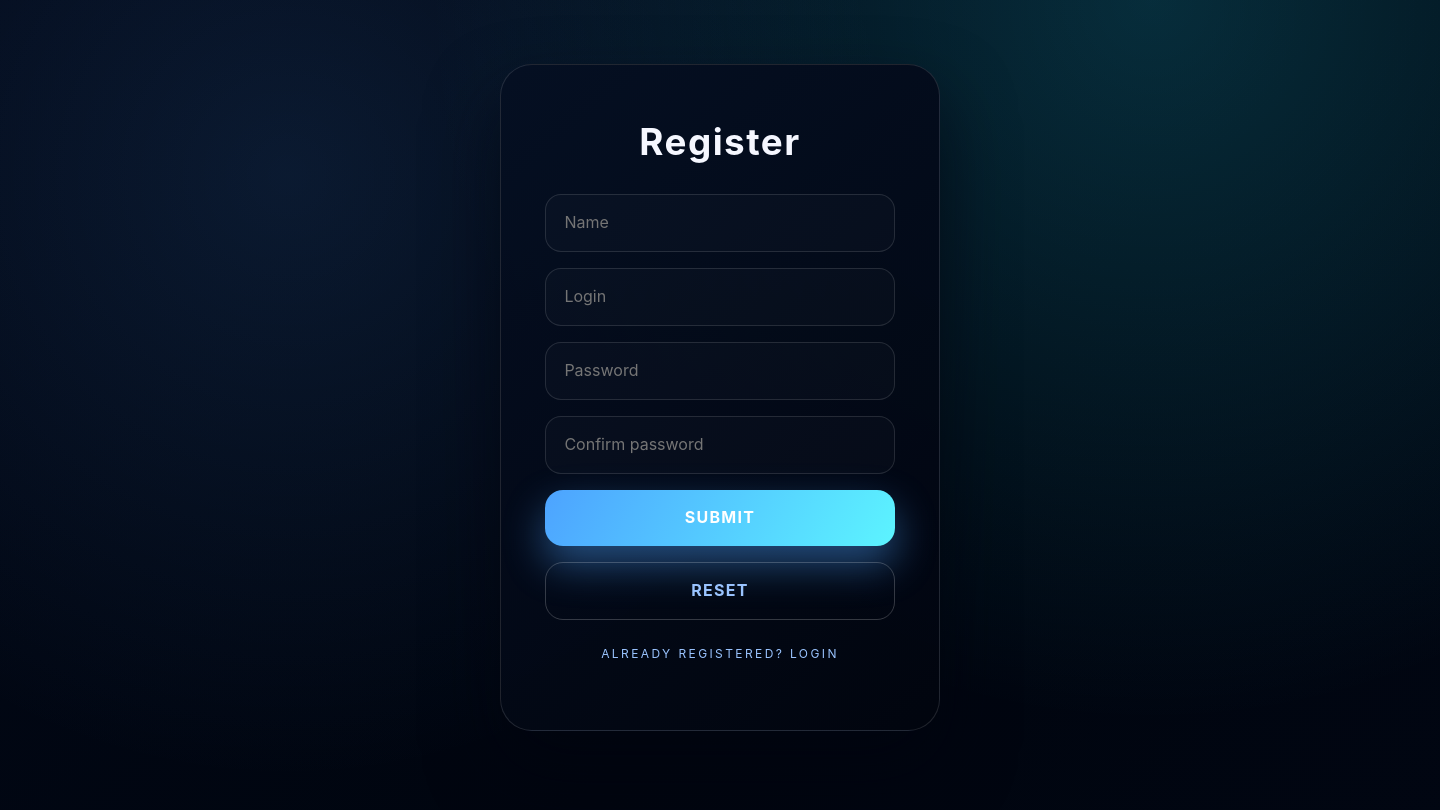
Register Component › shows error on registration failure
Type "John Doe" into the field with placeholder "Name" at coordinates (720, 223), box [545, 194, 895, 252]
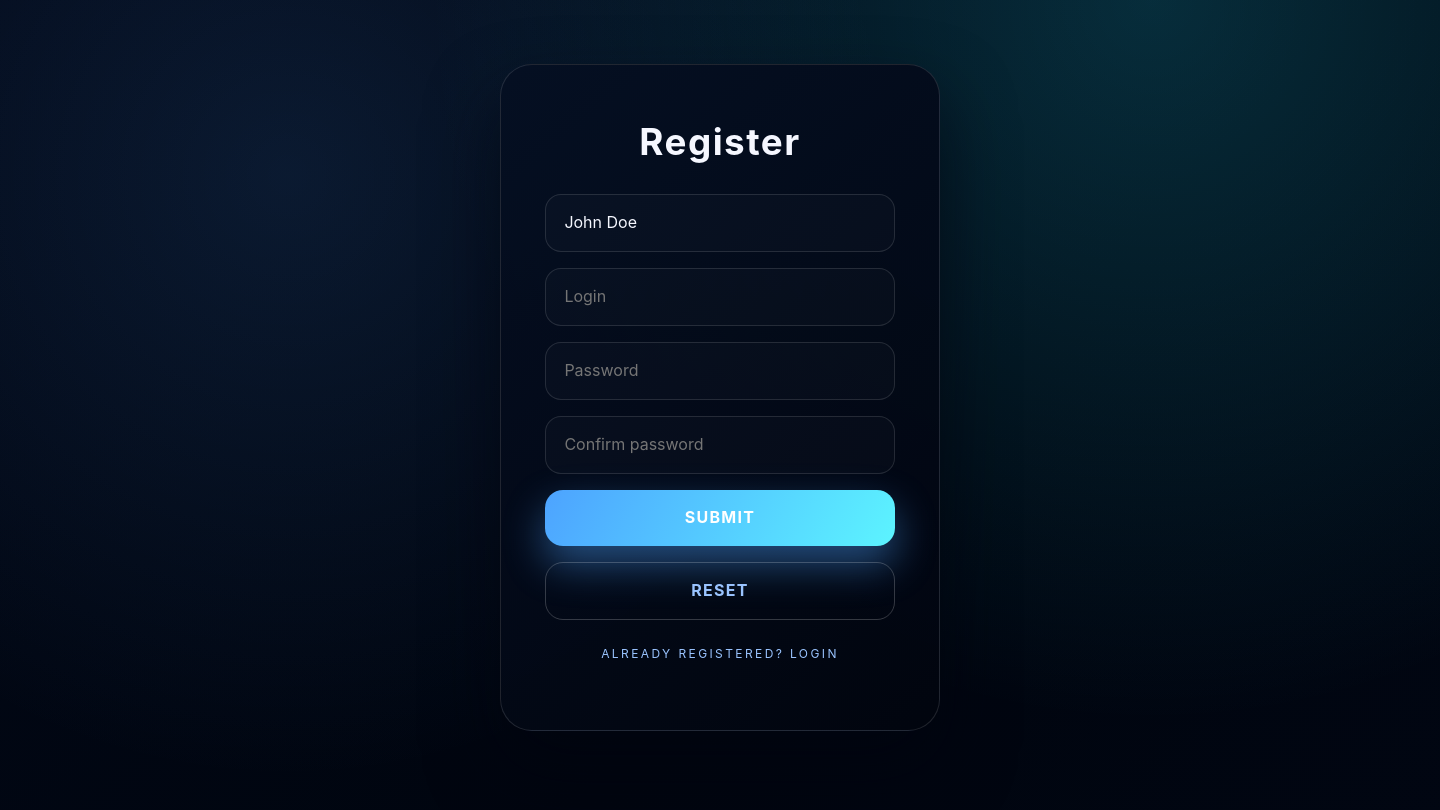
Type "johndoe" into the field with placeholder "Login" at coordinates (720, 297), box [545, 268, 895, 326]
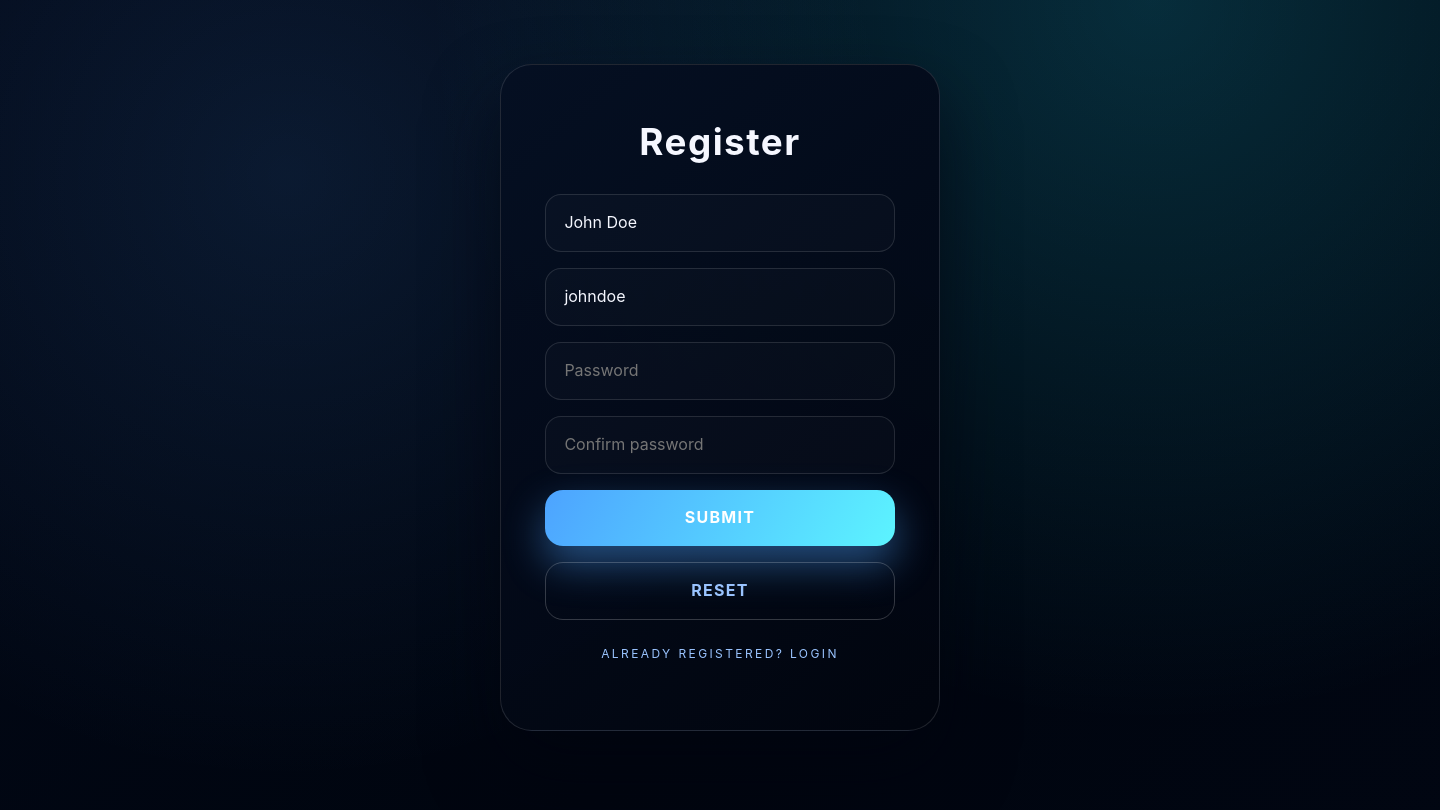
Type "password123" into the password field with placeholder "Password" at coordinates (720, 371), box [545, 342, 895, 400]
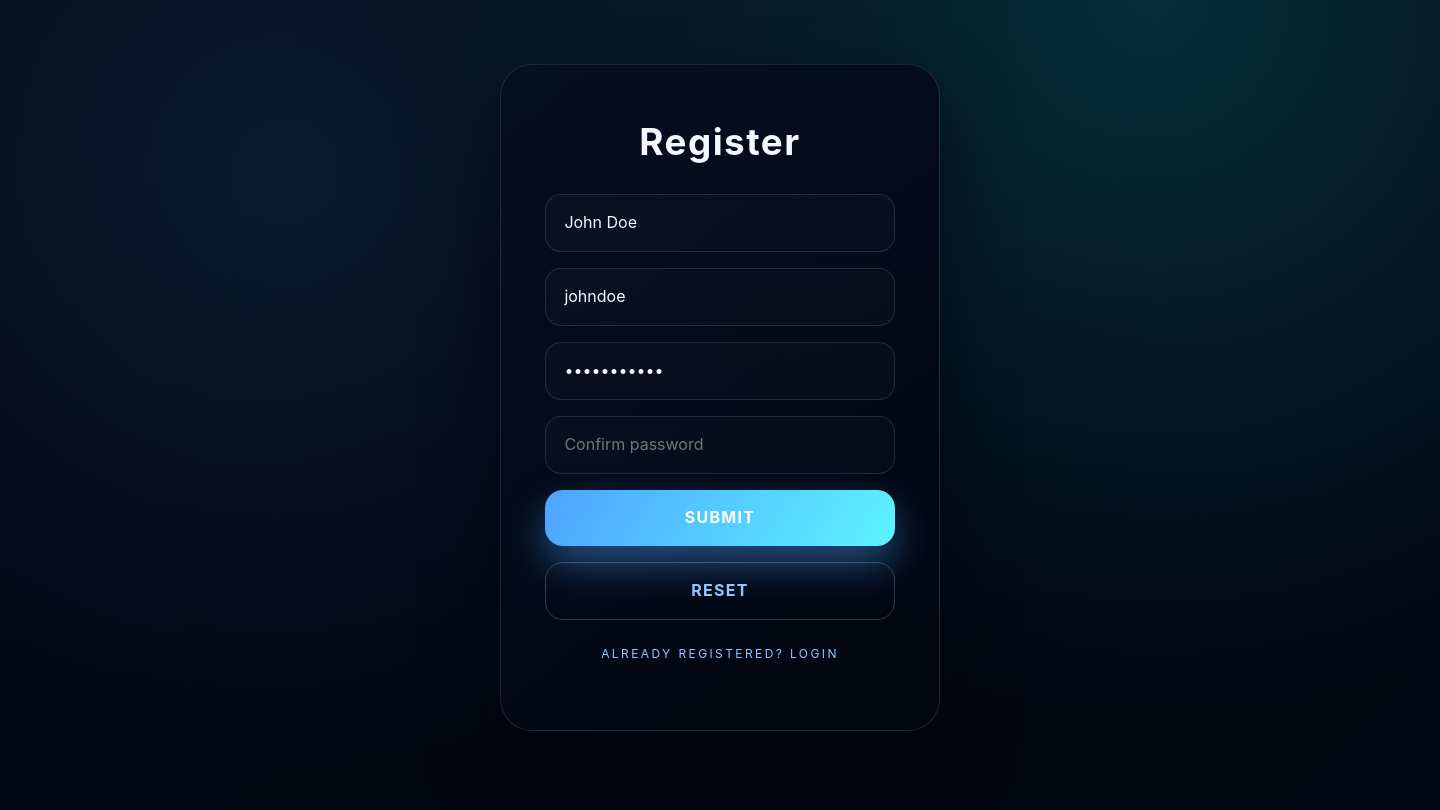
Type "password123" into the password field with placeholder "Confirm password" at coordinates (720, 445), box [545, 416, 895, 474]
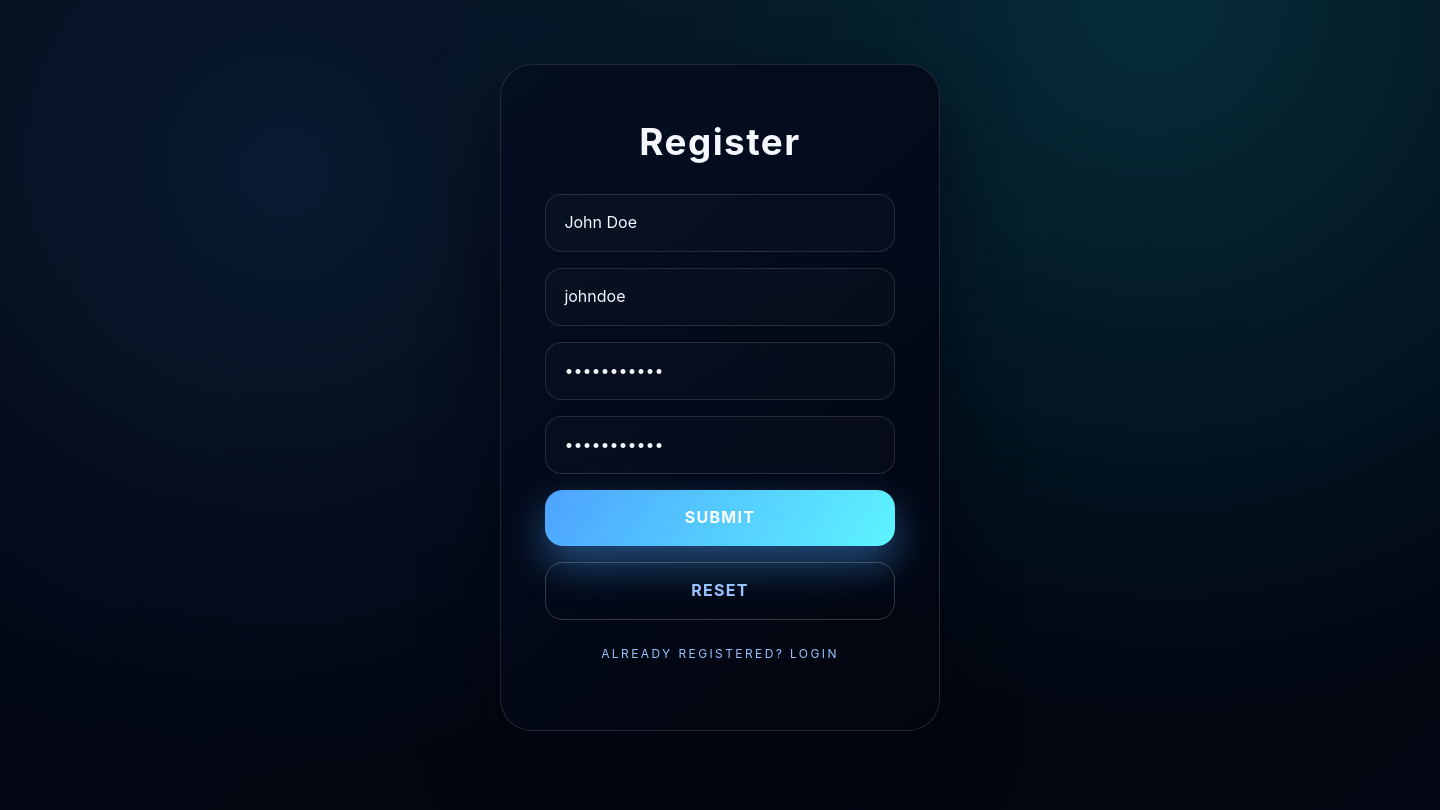
Click the button "Submit" at coordinates (720, 518), box [545, 490, 895, 546]
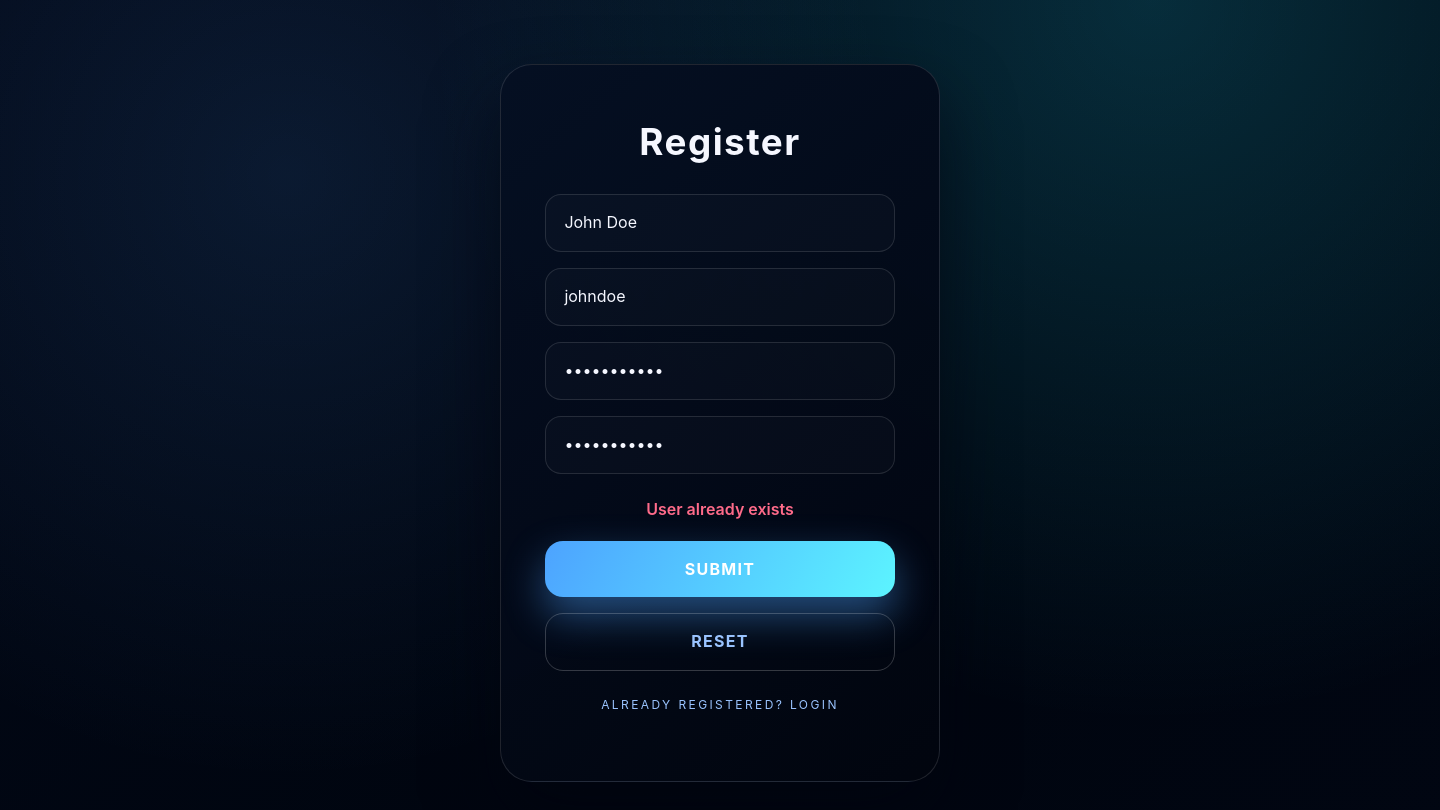
Expected: the text "User already exists" is shown, [646, 498, 794, 518]
